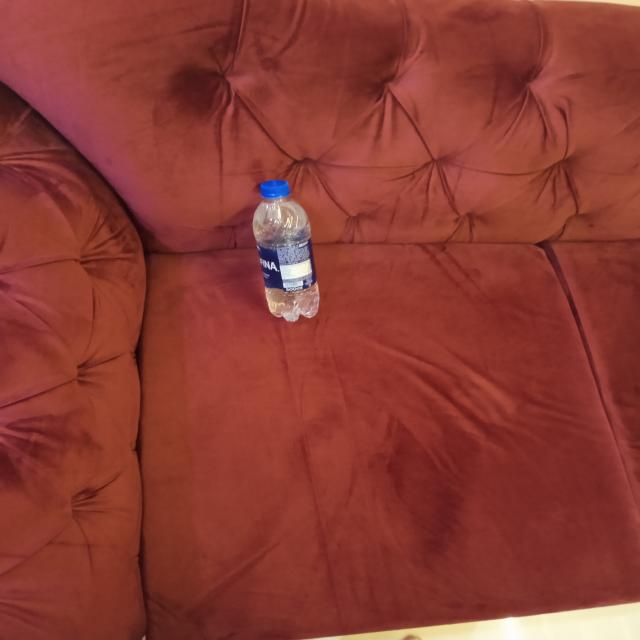Plastic: (246, 174, 332, 328)
